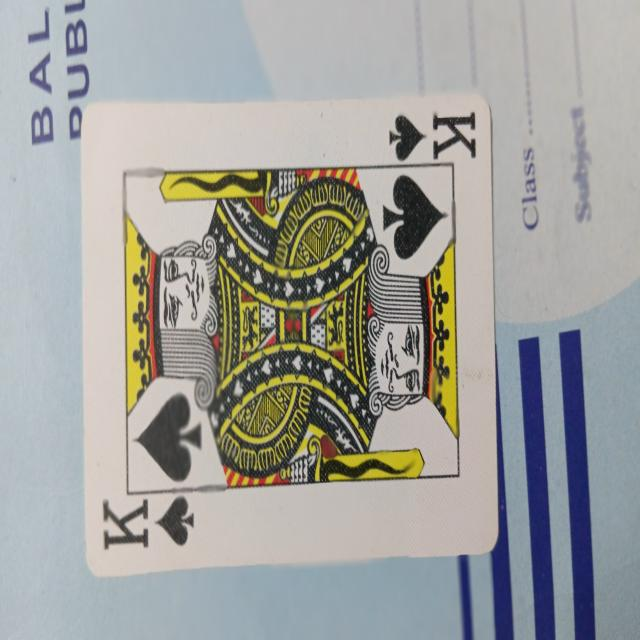KS: (83, 100, 497, 558)
